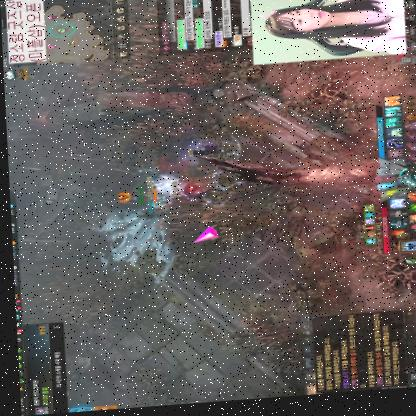streamer: (259, 0, 406, 67)
